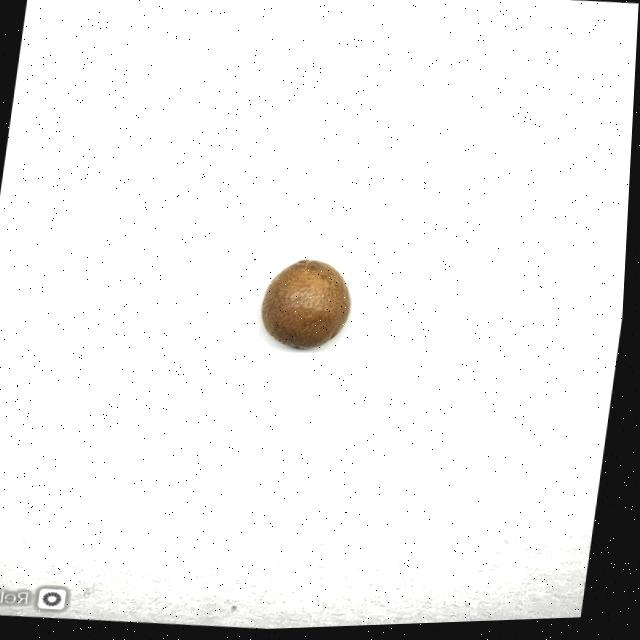Good bean: (259, 258, 361, 354)
